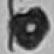correct: (5, 2, 50, 52)
